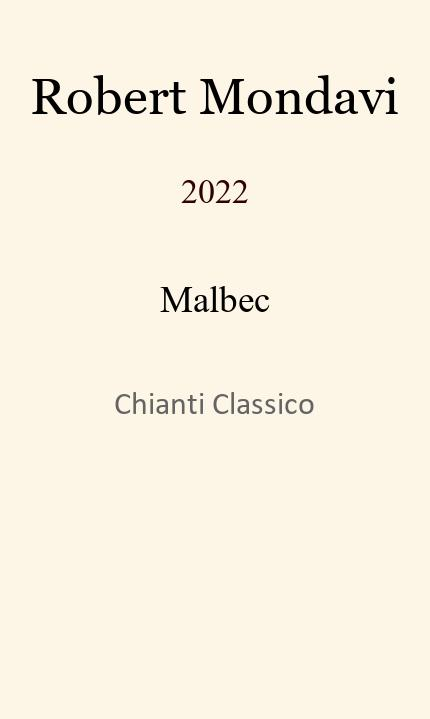brand: (30, 67, 399, 107)
region: (114, 390, 315, 412)
variety: (160, 279, 270, 305)
vintage: (181, 172, 249, 195)
